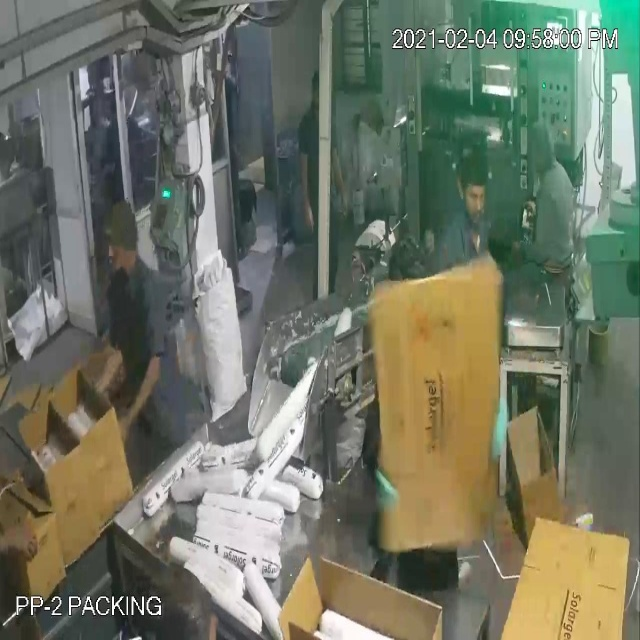Sin_guantes: (117, 334, 162, 441), (1, 508, 46, 590), (82, 321, 125, 405), (298, 136, 323, 243), (325, 133, 352, 217)
